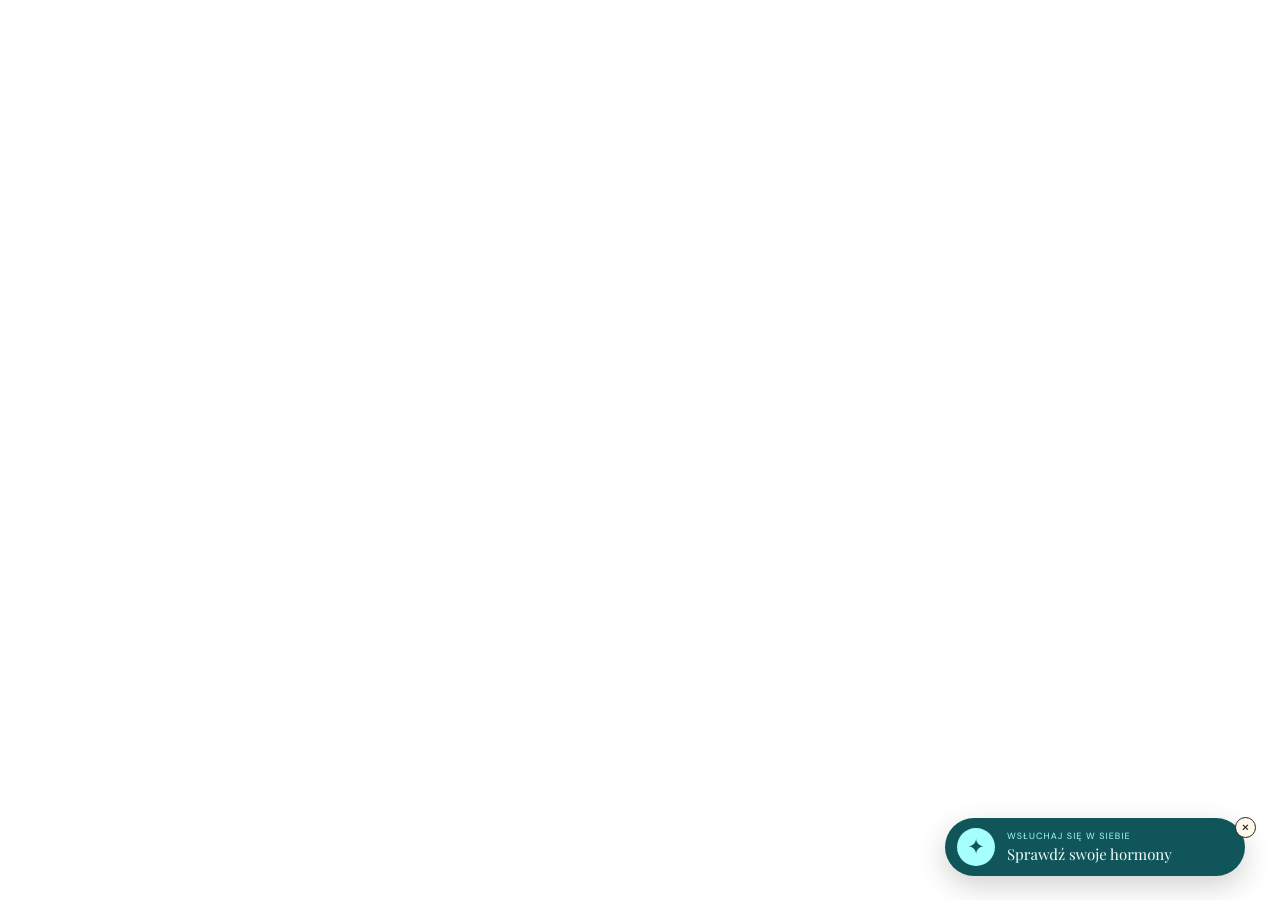
Test: HormoneTeaser › shows the description for KRÓLOWA ŚWIATA
The image size is (1280, 900).
Click the button "Sprawdź swoje hormony" at [1095, 847], box [945,818,1245,876]
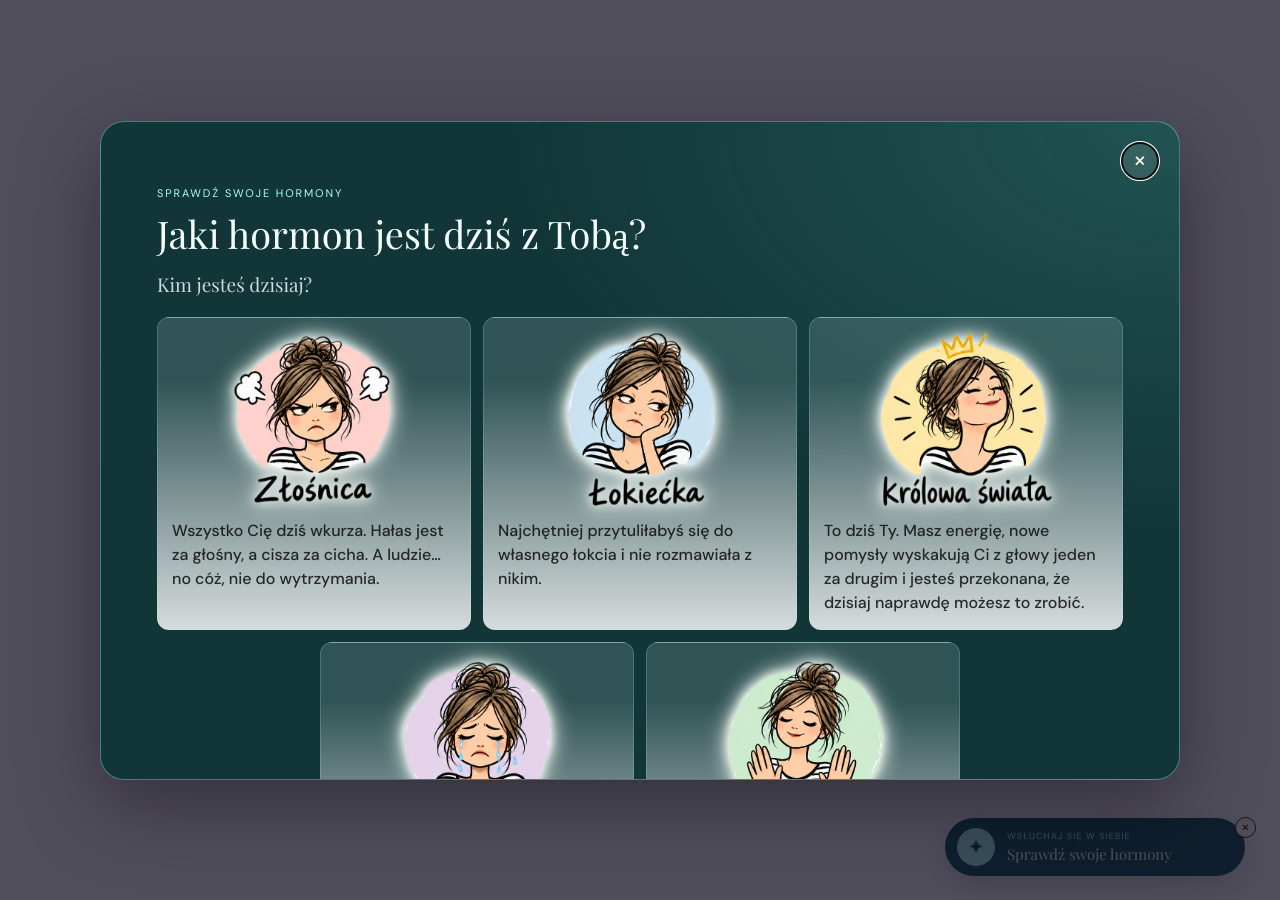
Click the button named "KRÓLOWA ŚWIATA" at [966, 473], box [809,316,1123,630]
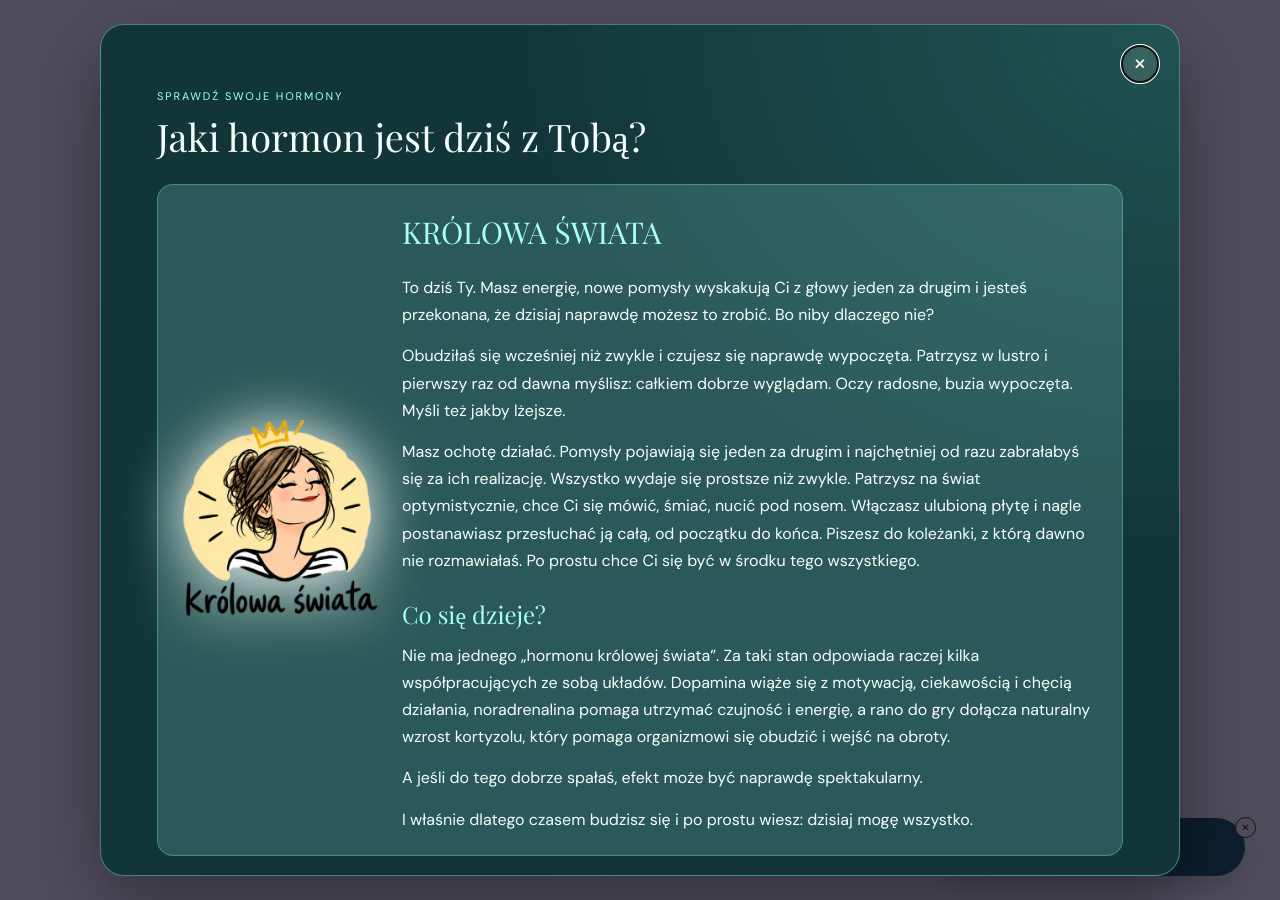
Now the heading "KRÓLOWA ŚWIATA" is shown, box [402,212,662,252]
Now the text "Kim jesteś dzisiaj?" is gone
Now the text "Obudziłaś się wcześniej niż zwykle i czujesz się naprawdę wypoczęta. Patrzysz w lustro i pierwszy raz od dawna myślisz: " is shown, box [402,345,1073,421]
